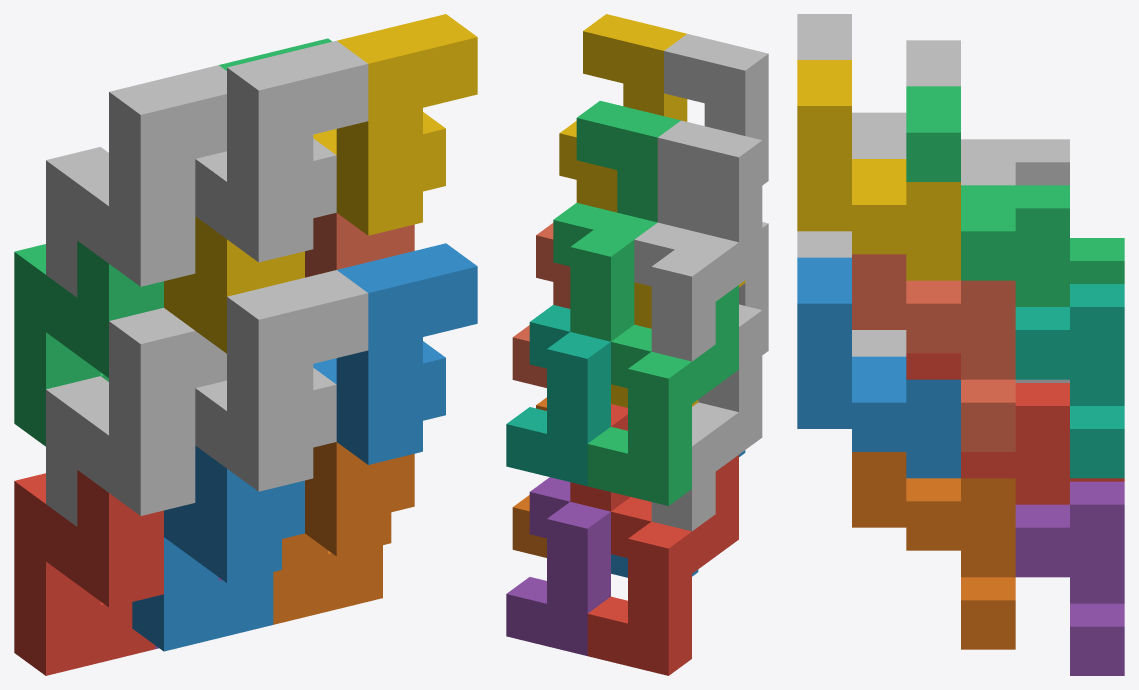
The model's file is tiling.obj.
The picture shows the model from 3 angles, left to right: view 1: azimuth 30°, elevation 25°; view 2: azimuth 150°, elevation 25°; view 3: azimuth 270°, elevation 25°; orthographic projection. The views are drawn at different scales.
Visible parts, largest first — view 1: copy_2_domain_3, copy_2_domain_2, copy_2_domain_4, copy_2_domain_1, copy_1_domain_1, copy_2_domain_6, copy_2_domain_8, copy_1_domain_2, copy_1_domain_6, copy_1_domain_3, copy_1_domain_4, copy_1_domain_8; view 2: copy_2_domain_3, copy_2_domain_7, copy_1_domain_3, copy_1_domain_1, copy_1_domain_7, copy_1_domain_5, copy_2_domain_4, copy_2_domain_8, copy_2_domain_1, copy_1_domain_8, copy_2_domain_2, copy_2_domain_5 (+2 smaller); view 3: copy_2_domain_6, copy_2_domain_8, copy_1_domain_8, copy_1_domain_6, copy_2_domain_7, copy_1_domain_5, copy_1_domain_7, copy_2_domain_5, copy_2_domain_3, copy_2_domain_4, copy_2_domain_2, copy_1_domain_3.
Boxes of the visible parts, x1=… form: copy_2_domain_3: x1=46, y1=65, x2=226, y2=297; copy_2_domain_2: x1=195, y1=270, x2=368, y2=491; copy_2_domain_4: x1=195, y1=41, x2=368, y2=262; copy_2_domain_1: x1=46, y1=307, x2=226, y2=526; copy_1_domain_1: x1=14, y1=470, x2=163, y2=675; copy_2_domain_6: x1=313, y1=243, x2=477, y2=464; copy_2_domain_8: x1=313, y1=14, x2=477, y2=235; copy_1_domain_2: x1=132, y1=445, x2=304, y2=651; copy_1_domain_6: x1=273, y1=442, x2=414, y2=624; copy_1_domain_3: x1=14, y1=241, x2=163, y2=446; copy_1_domain_4: x1=164, y1=216, x2=304, y2=353; copy_1_domain_8: x1=305, y1=212, x2=414, y2=277; copy_2_domain_3: x1=634, y1=120, x2=762, y2=361; copy_2_domain_7: x1=553, y1=100, x2=680, y2=341; copy_1_domain_3: x1=587, y1=285, x2=738, y2=505; copy_1_domain_1: x1=587, y1=455, x2=738, y2=675; copy_1_domain_7: x1=506, y1=305, x2=610, y2=486; copy_1_domain_5: x1=506, y1=477, x2=610, y2=655; copy_2_domain_4: x1=657, y1=34, x2=768, y2=232; copy_2_domain_8: x1=559, y1=14, x2=687, y2=212; copy_2_domain_1: x1=651, y1=304, x2=762, y2=531; copy_1_domain_8: x1=512, y1=223, x2=570, y2=387; copy_2_domain_2: x1=739, y1=222, x2=768, y2=354; copy_2_domain_5: x1=570, y1=404, x2=630, y2=511; copy_2_domain_6: x1=797, y1=257, x2=960, y2=478; copy_2_domain_8: x1=797, y1=60, x2=960, y2=280; copy_1_domain_8: x1=852, y1=254, x2=1015, y2=451; copy_1_domain_6: x1=852, y1=452, x2=1015, y2=649; copy_2_domain_7: x1=906, y1=86, x2=1069, y2=306; copy_1_domain_5: x1=1015, y1=481, x2=1124, y2=675; copy_1_domain_7: x1=1015, y1=284, x2=1124, y2=478; copy_2_domain_5: x1=906, y1=353, x2=1069, y2=504; copy_2_domain_3: x1=906, y1=40, x2=1069, y2=185; copy_2_domain_4: x1=797, y1=14, x2=906, y2=158; copy_2_domain_2: x1=797, y1=231, x2=906, y2=356; copy_1_domain_3: x1=1070, y1=238, x2=1124, y2=283.
Size of the model in its own units: 5 by 12 by 6.
